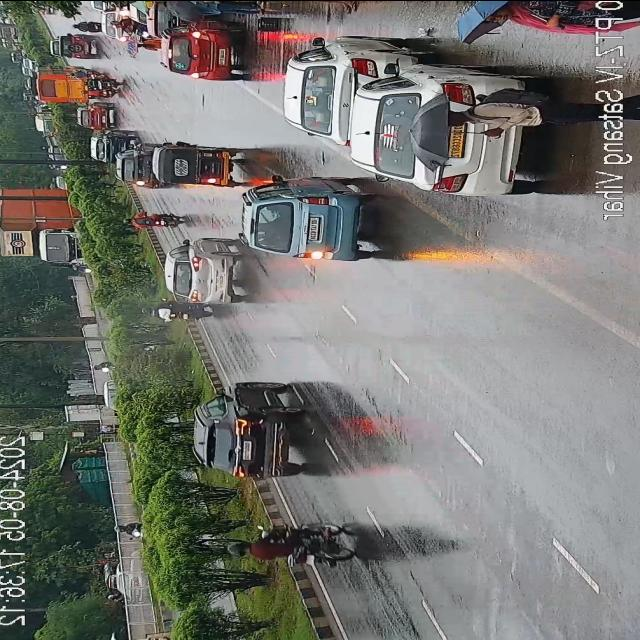2-wheelers: (233, 519, 354, 568), (126, 209, 186, 234), (144, 304, 218, 320), (78, 76, 125, 90), (108, 523, 146, 539), (70, 20, 102, 32)
auto: (153, 146, 241, 192)
bus: (35, 65, 96, 108)
car: (354, 61, 540, 194), (282, 39, 432, 142), (240, 174, 378, 268), (192, 380, 306, 480), (163, 236, 242, 306), (165, 18, 239, 81), (118, 144, 172, 188), (87, 130, 139, 166), (56, 34, 104, 62), (78, 102, 116, 132)
pedestrian: (415, 94, 587, 164), (452, 0, 589, 48), (156, 0, 254, 18), (268, 0, 360, 17), (125, 35, 158, 51)
truck: (0, 184, 85, 264)
